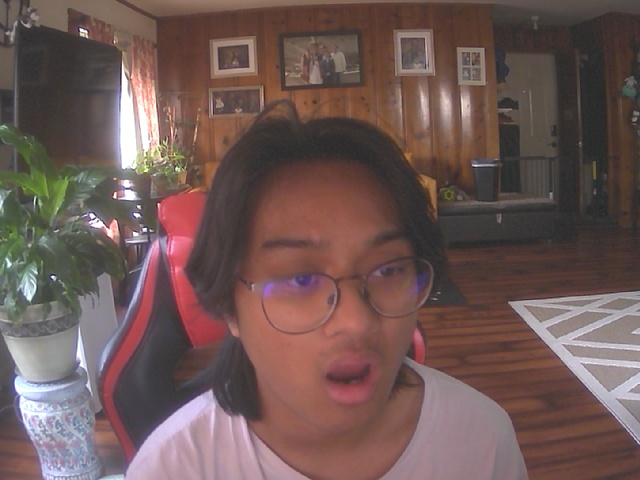fear: (217, 122, 446, 437)
